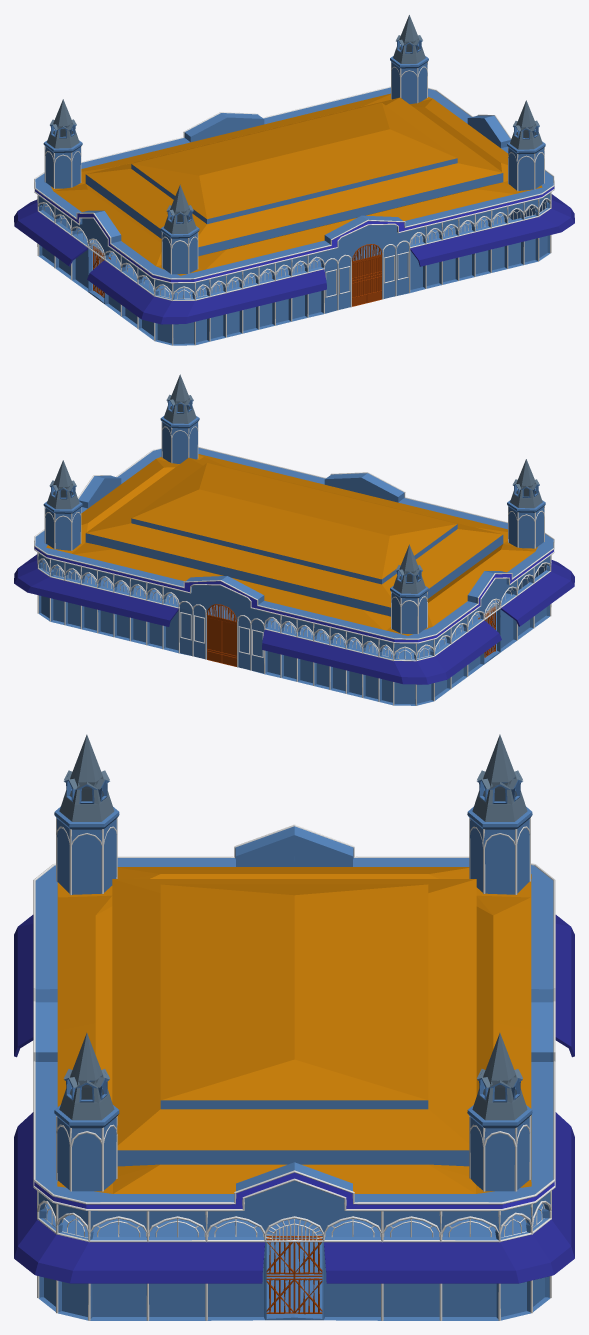
Rendered from ver-o-peso.fbx.
3 renders of one model, top to bottom at view 1: azimuth 30°, elevation 25°; view 2: azimuth 150°, elevation 25°; view 3: azimuth 270°, elevation 25°, orthographic. The views are drawn at different scales.
Parts seen in each view (by area): view 1: torres.001; view 2: torres.001; view 3: torres.001.
Boxes of the visible parts, left/top/right/bottom form: torres.001: left=14, top=15, right=574, bottom=345; torres.001: left=14, top=374, right=574, bottom=705; torres.001: left=14, top=734, right=574, bottom=1320.
Size of the model in its own units: 2805 by 943 by 1781.
